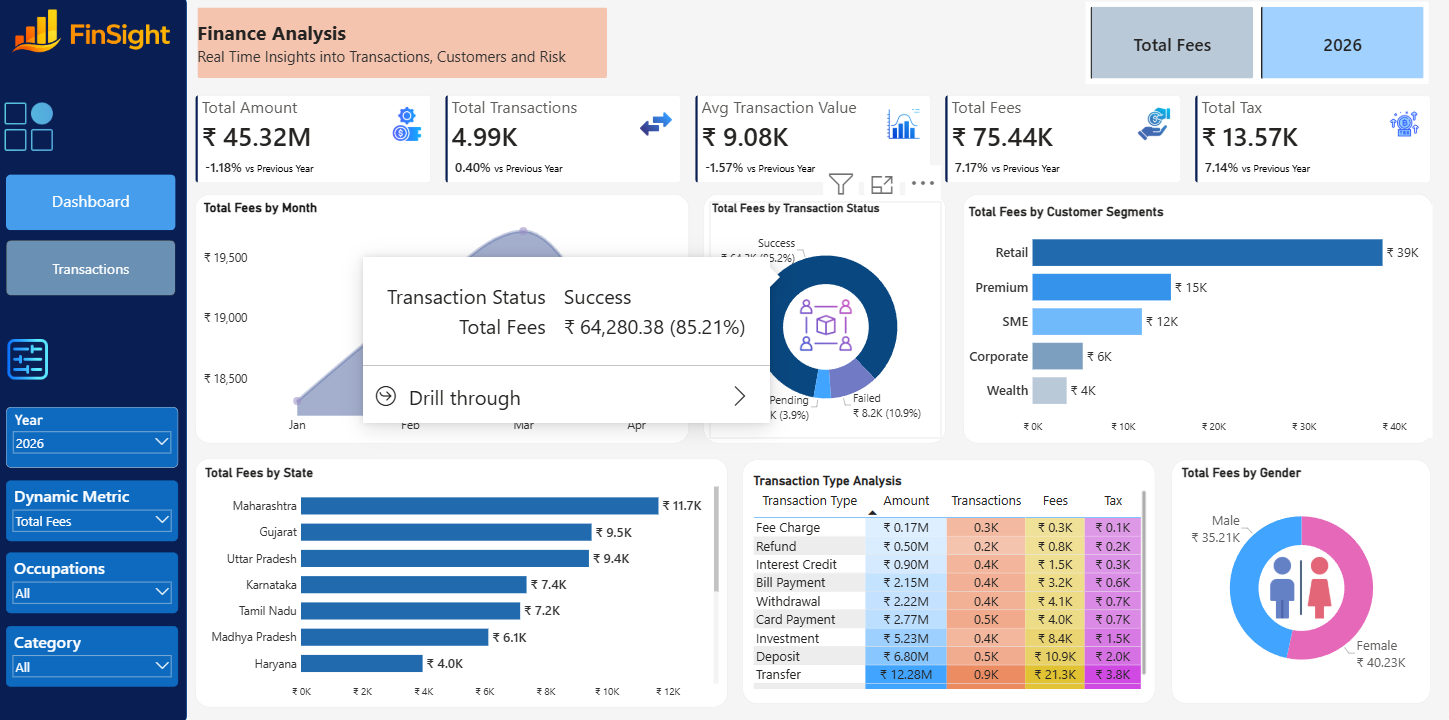

What the dashboard file says about the page in this screenshot:
{"tool":"powerbi","page":{"name":"Dashboard","canvas":[3000,1500],"ordinal":0},"visuals":[{"type":"shape","box":[0,3.8,392.3,1496.2],"z":0},{"type":"shape","box":[392.3,0,2607.7,1496.2],"z":1000},{"type":"image","box":[3.3,6.7,390,133.3],"z":2000},{"type":"cardVisual","fields":{"Data":["finance_transactions.dashboard title"]},"box":[395,5,880,180],"z":3000},{"type":"cardVisual","fields":{"Data":["finance_transactions.Total Amount","finance_transactions.Total transaction","finance_transactions.Avg Transaction value","finance_transactions.total fees","finance_transactions.Total Tax"]},"box":[400,195,2570,200],"z":4000},{"type":"image","box":[810,230,70,70],"z":5000},{"type":"image","box":[1325,230,70,70],"z":6000},{"type":"image","box":[1835,230,70,70],"z":7000},{"type":"image","box":[2355,230,70,70],"z":8000},{"type":"image","box":[2870,230,70,70],"z":9000},{"type":"slicer","fields":{"Values":["dynamic metric.dynamic metric"]},"box":[18,1000,355,125],"z":10000},{"type":"shape","box":[410,410,1020,515],"z":11000},{"type":"areaChart","fields":{"Y":["finance_transactions.Total Fees"],"Category":["Calendar.Month"]},"box":[422,421,997,490],"z":12000},{"type":"cardVisual","fields":{"Data":["finance_transactions.selected dynamic","finance_transactions.Selected Year"]},"box":[2242.9,4.8,719,181],"z":13000},{"type":"shape","box":[1460,410,500,515],"z":14000},{"type":"donutChart","fields":{"Y":["finance_transactions.Total Fees"],"Category":["finance_transactions.transaction_status"]},"box":[1470,423,480,490],"z":15000},{"type":"shape","box":[1993.3,410,970,515],"z":16000},{"type":"barChart","fields":{"Y":["finance_transactions.Total Fees"],"Category":["customers.customer_segment"]},"box":[2000,431.8,963.6,481.8],"z":17000},{"type":"shape","box":[410,955,1100,515],"z":18000},{"type":"barChart","fields":{"Y":["finance_transactions.Total Fees"],"Category":["customers.state"]},"box":[425,970,1070,490],"z":19000},{"type":"shape","box":[2426.1,956.5,534.8,504.3],"z":20000},{"type":"shape","box":[1539.1,956.5,852.2,504.3],"z":21000},{"type":"tableEx","title":"Transaction Type Analysis ","fields":{"Values":["finance_transactions.transaction_type","finance_transactions.Total Amount","finance_transactions.Total Transactions","finance_transactions.Total Fees","finance_transactions.Total Tax"]},"box":[1550,975,831.8,463.6],"z":22000},{"type":"donutChart","fields":{"Y":["finance_transactions.Total Fees"],"Category":["customers.gender"]},"box":[2440,970,505,475],"z":23000},{"type":"image","box":[2603.6,1150,175,145],"z":24000},{"type":"image","box":[1655,620,115,120],"z":25000},{"type":"slicer","fields":{"Values":["Calendar.Year"]},"box":[18,850,355,125],"z":26000},{"type":"slicer","fields":{"Values":["customers.occupation"]},"box":[18,1150,355,125],"z":27000},{"type":"slicer","fields":{"Values":["finance_transactions.merchant_category"]},"box":[18,1300,355,125],"z":28000},{"type":"pageNavigator","box":[20,370,350,250],"z":29000},{"type":"image","box":[15.4,220,100,100],"z":30000},{"type":"image","box":[15,700,96.2,100],"z":31000}]}

Visuals, with their boxes on the page's 3000x1500 design canvas (x1, y1, x2, y2). These are canvas units, not pixel positions in the 1449x720 screenshot, which may show the page scaled, cropped or inside an application window:
shape: locate(0, 4, 392, 1500)
shape: locate(392, 0, 3000, 1496)
image: locate(3, 7, 393, 140)
cardVisual - finance_transactions.dashboard title: locate(395, 5, 1275, 185)
cardVisual - finance_transactions.Total Amount x finance_transactions.Total transaction: locate(400, 195, 2970, 395)
image: locate(810, 230, 880, 300)
image: locate(1325, 230, 1395, 300)
image: locate(1835, 230, 1905, 300)
image: locate(2355, 230, 2425, 300)
image: locate(2870, 230, 2940, 300)
slicer - dynamic metric.dynamic metric: locate(18, 1000, 373, 1125)
shape: locate(410, 410, 1430, 925)
areaChart - finance_transactions.Total Fees x Calendar.Month: locate(422, 421, 1419, 911)
cardVisual - finance_transactions.selected dynamic x finance_transactions.Selected Year: locate(2243, 5, 2962, 186)
shape: locate(1460, 410, 1960, 925)
donutChart - finance_transactions.Total Fees x finance_transactions.transaction_status: locate(1470, 423, 1950, 913)
shape: locate(1993, 410, 2963, 925)
barChart - finance_transactions.Total Fees x customers.customer_segment: locate(2000, 432, 2964, 914)
shape: locate(410, 955, 1510, 1470)
barChart - finance_transactions.Total Fees x customers.state: locate(425, 970, 1495, 1460)
shape: locate(2426, 956, 2961, 1461)
shape: locate(1539, 956, 2391, 1461)
"Transaction Type Analysis " tableEx: locate(1550, 975, 2382, 1439)
donutChart - finance_transactions.Total Fees x customers.gender: locate(2440, 970, 2945, 1445)
image: locate(2604, 1150, 2779, 1295)
image: locate(1655, 620, 1770, 740)
slicer - Calendar.Year: locate(18, 850, 373, 975)
slicer - customers.occupation: locate(18, 1150, 373, 1275)
slicer - finance_transactions.merchant_category: locate(18, 1300, 373, 1425)
pageNavigator: locate(20, 370, 370, 620)
image: locate(15, 220, 115, 320)
image: locate(15, 700, 111, 800)
